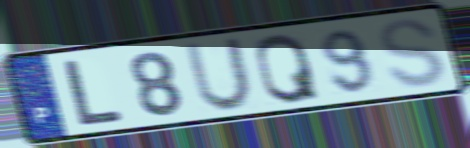8: (129, 50, 186, 117)
9: (318, 26, 376, 96)
L: (60, 57, 127, 128)
Q: (253, 30, 323, 106)
S: (376, 17, 448, 90)
U: (183, 35, 256, 113)
